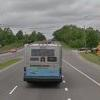Bus: (18, 39, 66, 90)
